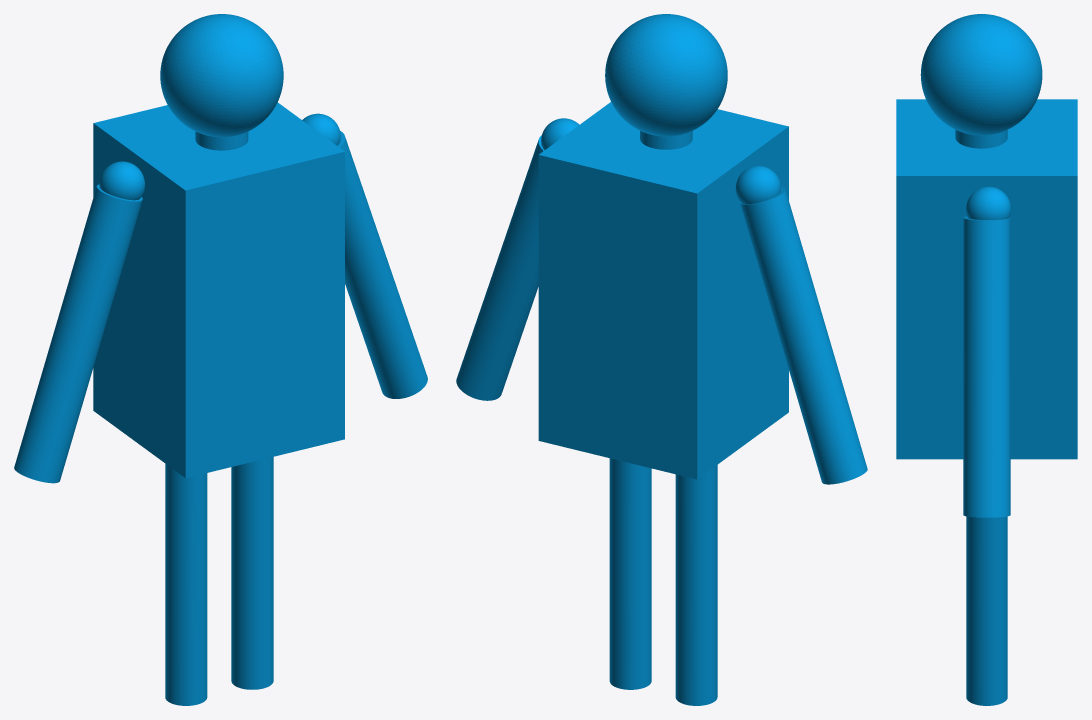
Rendered from person.fbx.
3 views of the same model, side by side, from view 1: azimuth 30°, elevation 25°; view 2: azimuth 150°, elevation 25°; view 3: azimuth 270°, elevation 25° (orthographic).
Parts seen in each view (by area): view 1: node_id46; view 2: node_id46; view 3: node_id46.
Part boxes in pixels (x1=…): node_id46: x1=14, y1=14, x2=427, y2=705; node_id46: x1=456, y1=14, x2=867, y2=705; node_id46: x1=896, y1=14, x2=1077, y2=705.
Size of the model in its own units: 0.1958 by 0.3086 by 0.0768.
